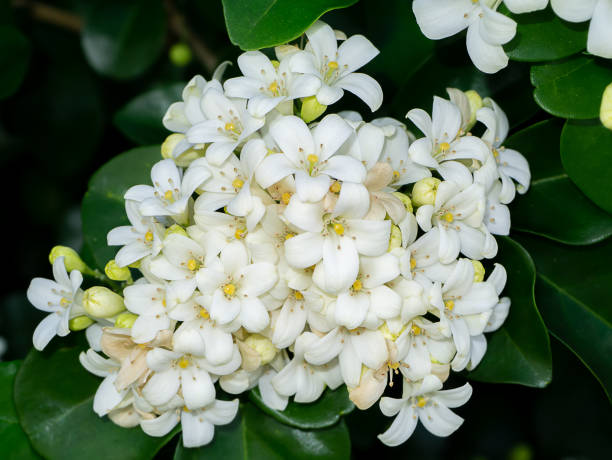flower: (269, 182, 393, 287), (286, 0, 388, 113), (255, 111, 373, 203), (136, 331, 246, 415), (405, 176, 502, 267), (370, 369, 480, 447), (299, 297, 398, 383), (418, 250, 496, 356), (401, 98, 485, 193), (310, 245, 402, 329), (198, 238, 278, 333), (473, 91, 536, 209), (197, 239, 275, 334), (220, 48, 324, 119), (265, 324, 354, 405), (11, 255, 85, 352), (184, 141, 269, 225), (187, 82, 266, 162), (151, 230, 233, 300), (381, 303, 457, 378), (116, 262, 185, 343), (125, 151, 207, 218), (140, 401, 248, 446), (102, 196, 168, 265)
